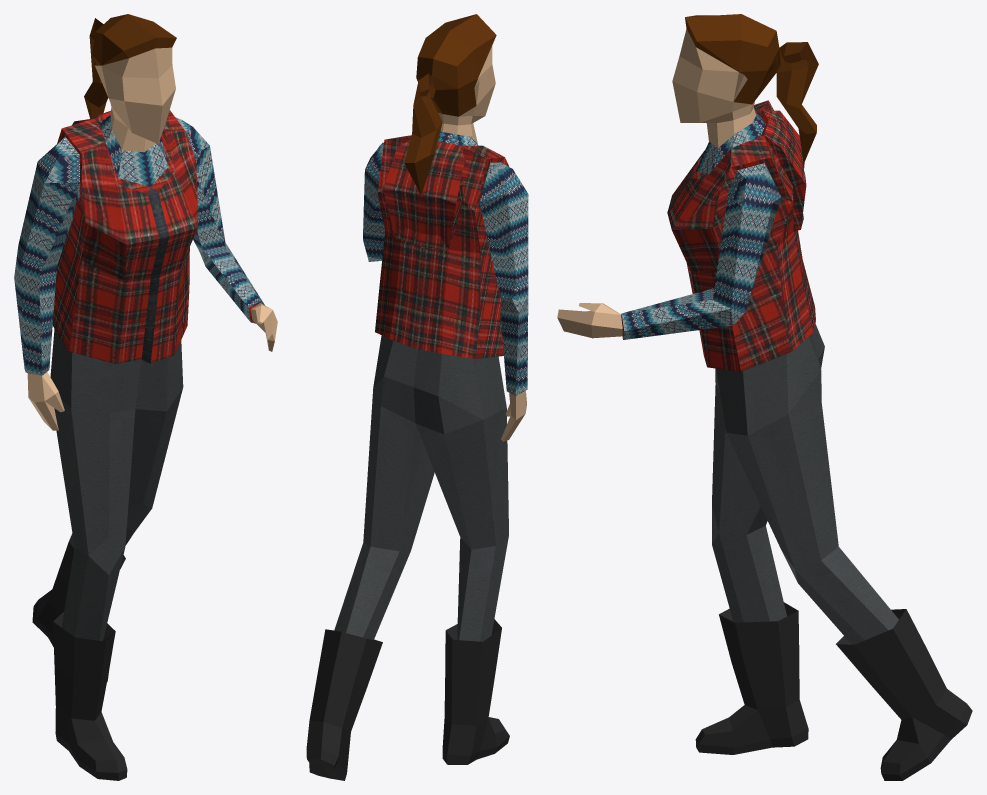
File: AutumnWomanA.007.glb
3 renders of one model, left to right at view 1: azimuth 30°, elevation 25°; view 2: azimuth 150°, elevation 25°; view 3: azimuth 270°, elevation 25°, orthographic. The views are drawn at different scales.
Visible parts, largest first — view 1: AutumnWomanA.007; view 2: AutumnWomanA.007; view 3: AutumnWomanA.007.
Part boxes in pixels (x1,y1,x2,y2): AutumnWomanA.007: [14, 14, 277, 780]; AutumnWomanA.007: [306, 14, 528, 780]; AutumnWomanA.007: [557, 14, 972, 780].
Size of the model in its own units: 0.4478 by 1.7 by 0.8527.
Materials: 1 (1 with a texture image).
